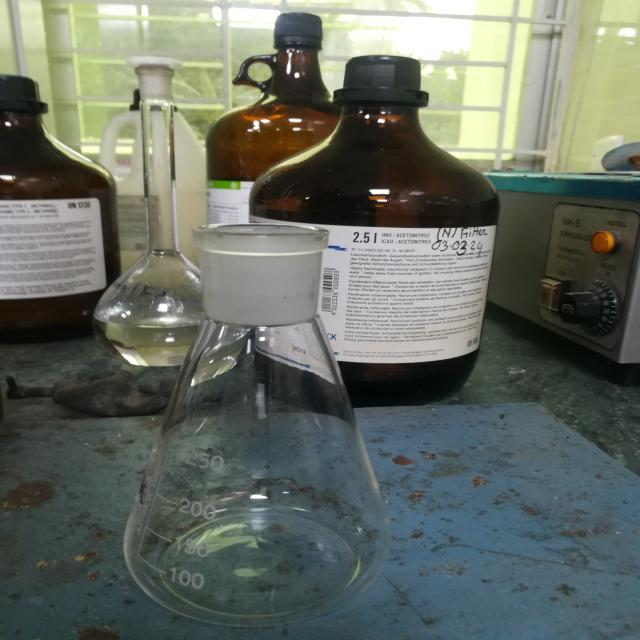Conical_Flask: (118, 202, 420, 621)
